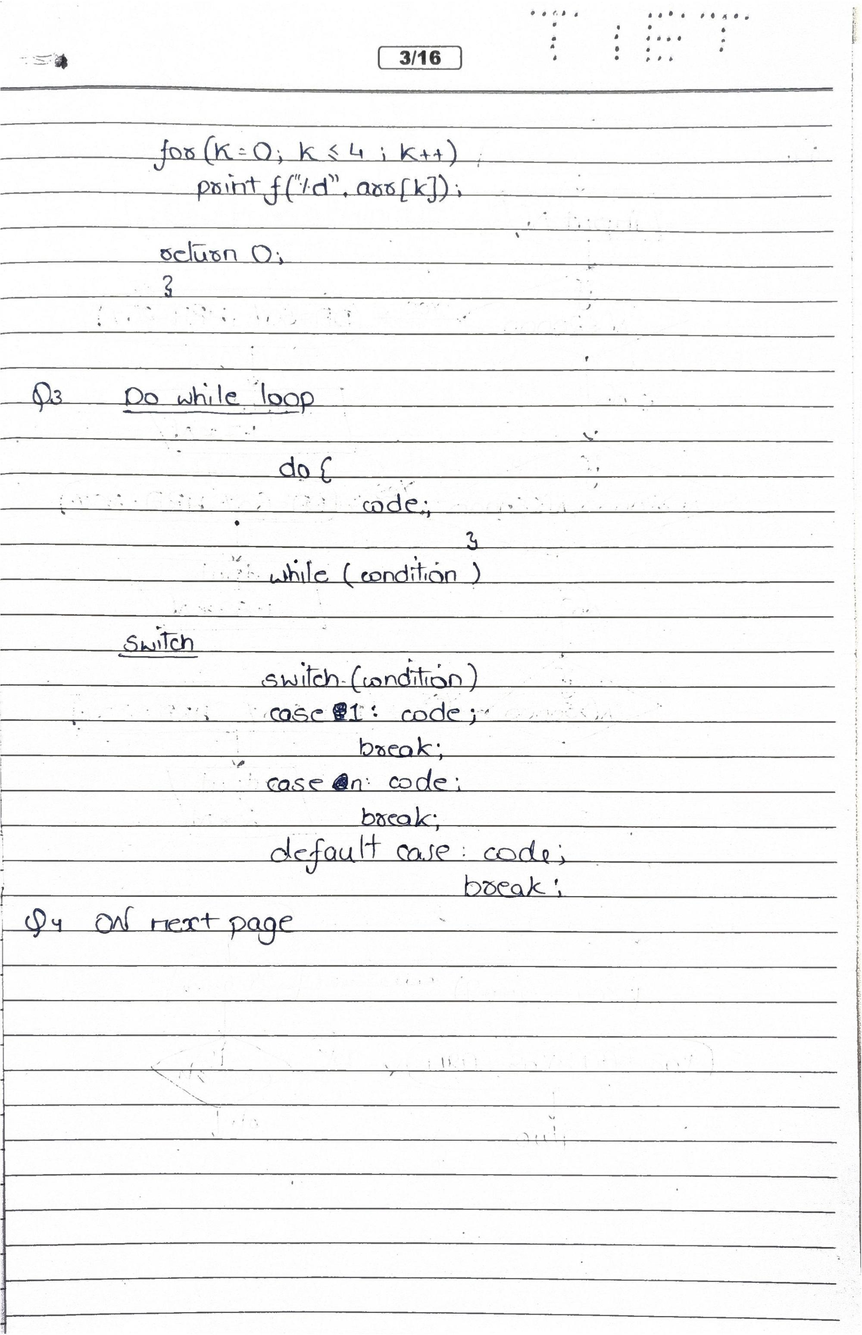cuttings: (333, 701, 348, 723), (333, 771, 349, 789)
